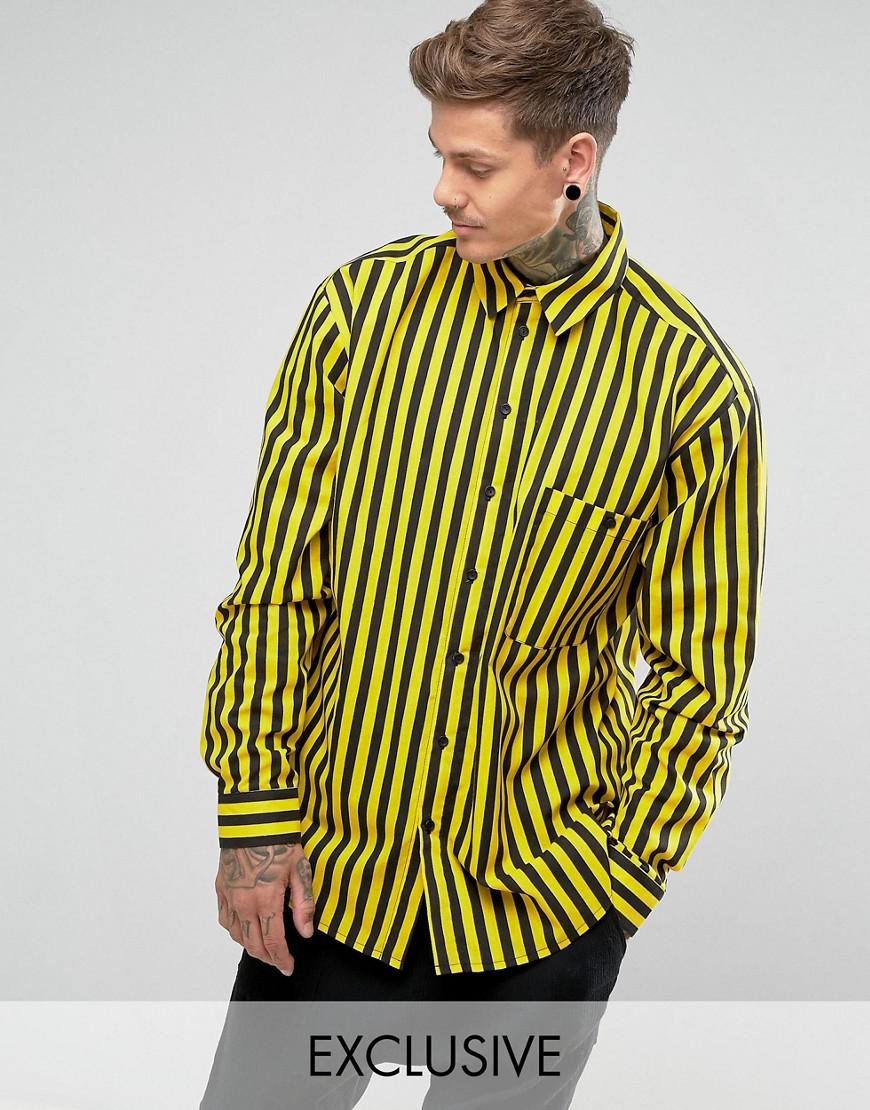teeshirt: (222, 229, 762, 979)
